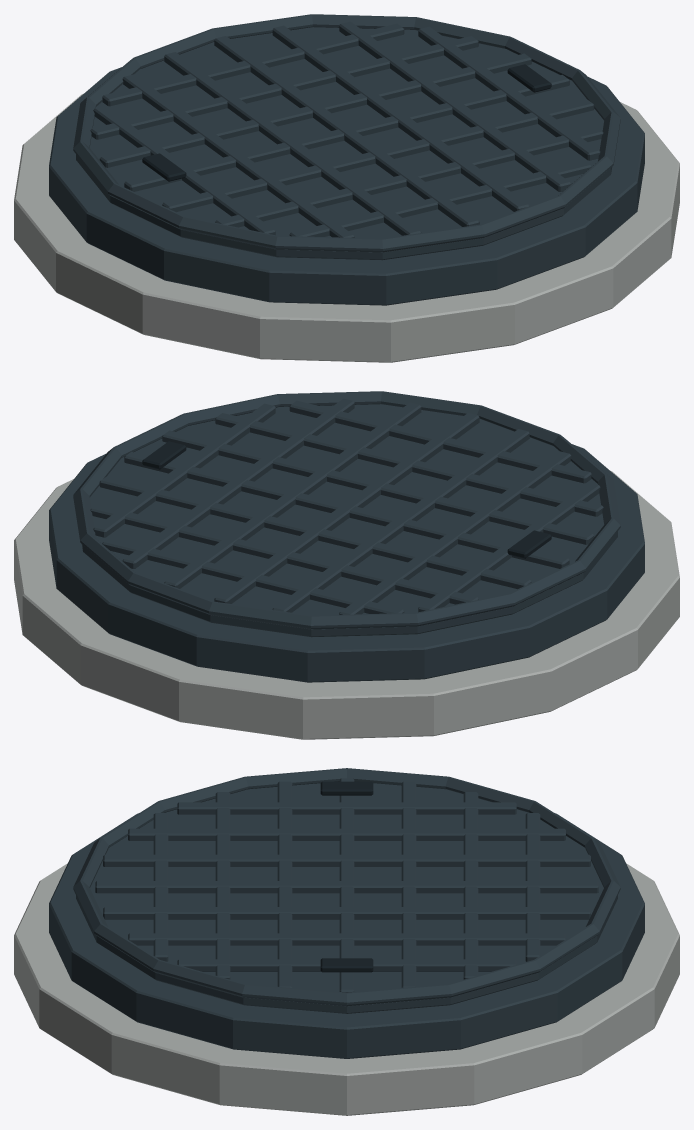
File: b05_sanitary_manhole_cover.glb
The picture shows the model from 3 angles, top to bottom: view 1: azimuth 30°, elevation 25°; view 2: azimuth 150°, elevation 25°; view 3: azimuth 270°, elevation 25°; orthographic projection.
Visible parts, largest first — view 1: b05_sanitary_manhole_cover; view 2: b05_sanitary_manhole_cover; view 3: b05_sanitary_manhole_cover.
Boxes of the visible parts, left/top/right/bottom form: b05_sanitary_manhole_cover: left=14, top=14, right=679, bottom=362; b05_sanitary_manhole_cover: left=14, top=391, right=679, bottom=739; b05_sanitary_manhole_cover: left=14, top=768, right=679, bottom=1115.
Bounding box in the file's own units: 0.86 × 0.1455 × 0.86.
